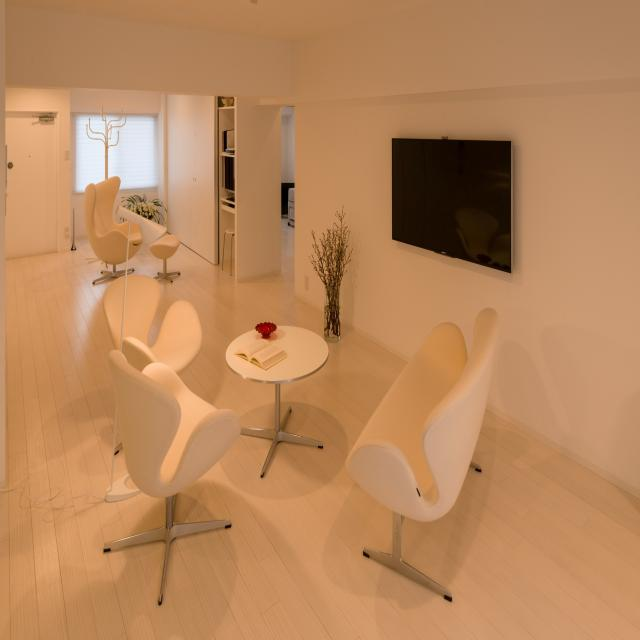white chair: (339, 322, 497, 563), (98, 347, 235, 615), (69, 157, 140, 280)
